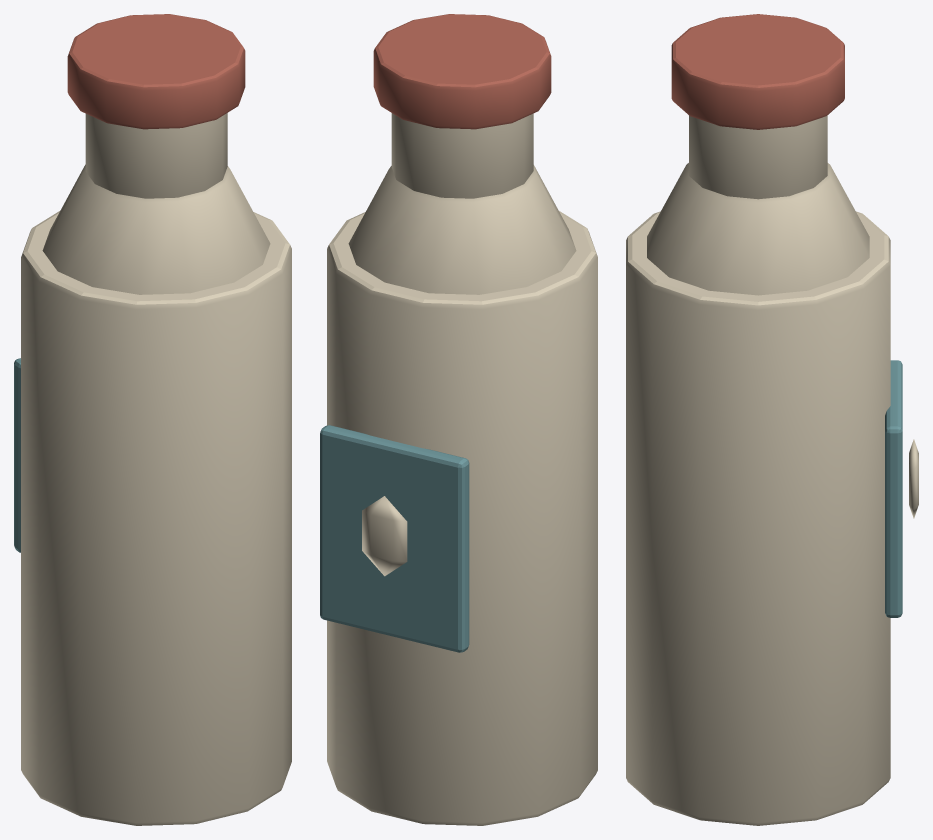
Rendered from milk.glb.
3 renders of one model, left to right at view 1: azimuth 30°, elevation 25°; view 2: azimuth 150°, elevation 25°; view 3: azimuth 270°, elevation 25°, orthographic.
Bounding box in the file's own units: 0.122 × 0.358 × 0.1317.
